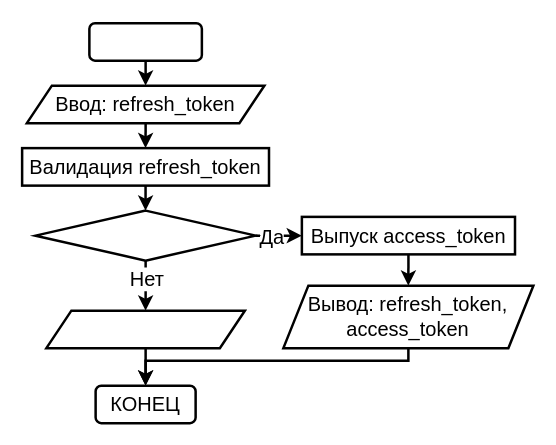
The diagram is 556 pixels wide and 445 high, and some of its shapes have lost their labels. Here are the shapes that lost their labels. From the top down, the centre of each, then its label:
the point at 145,41: НАЧАЛО
the point at 145,235: Токен валиден
the point at 145,329: Вывод: ошибка
